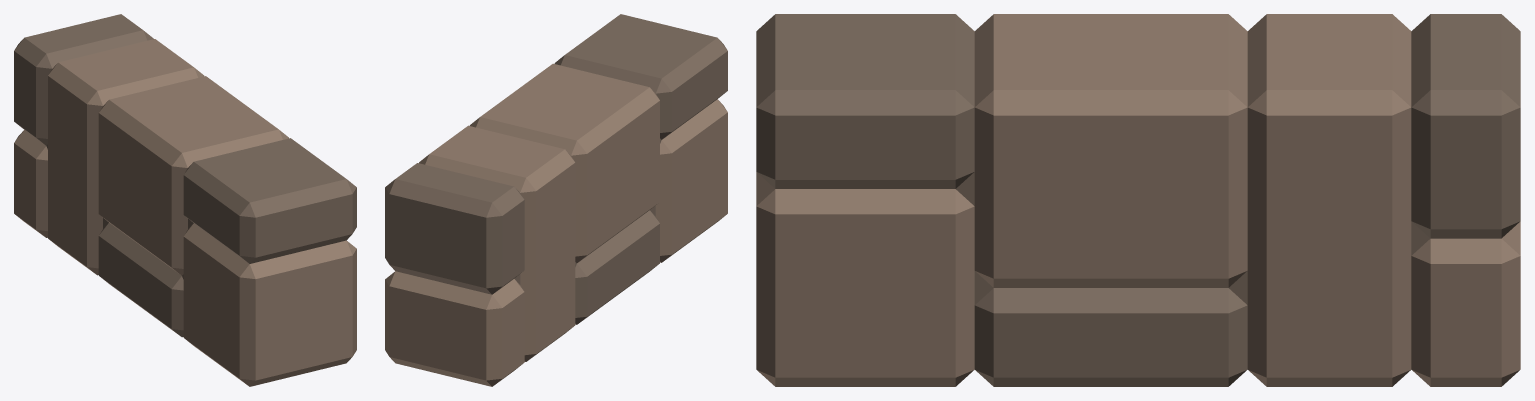
File: Stone_Curb_3.obj
3 views of the same model, side by side, from view 1: azimuth 30°, elevation 25°; view 2: azimuth 150°, elevation 25°; view 3: azimuth 270°, elevation 25° (orthographic). The views are drawn at different scales.
Visible parts, largest first — view 1: object1; view 2: object1; view 3: object1.
Part boxes in pixels (bbox=[...]): object1: bbox=[14, 14, 356, 386]; object1: bbox=[385, 14, 727, 386]; object1: bbox=[756, 14, 1520, 386].
Size of the model in its own units: 0.2 by 0.3 by 0.7.
